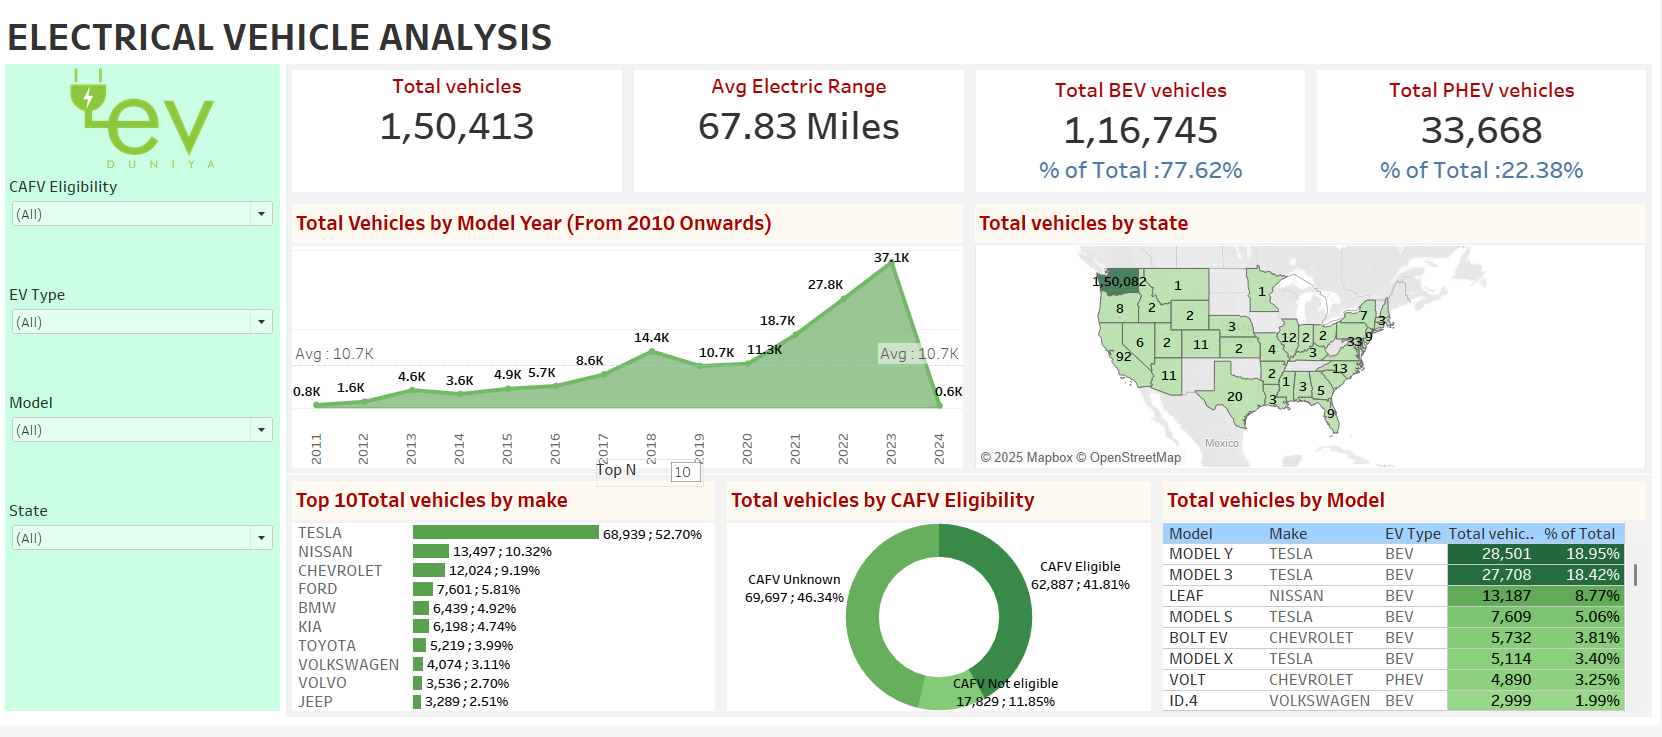

Layout of this report page (visuals, bound fields, positions):
{"tool":"tableau","page":{"name":"Dashboard 1","canvas":[1600,900],"ordinal":0},"visuals":[{"type":"title","box":[8,8,1584,60]},{"type":"image","param":"Image/EVDuinya-Logo.png","box":[14,68,263,137]},{"type":"worksheet","title":"Total vehicle","mark":"Automatic","box":[283,68,328,122]},{"type":"worksheet","title":"Avg Electic Range","mark":"Automatic","box":[611,68,327,122]},{"type":"worksheet","title":"Total BEV vehicles","mark":"Automatic","box":[938,68,327,122]},{"type":"worksheet","title":"Total PHEV vehicles ","mark":"Automatic","box":[1265,68,327,122]},{"type":"worksheet","title":"Total Vehicles by Model Year (From 2010 Onwards)","mark":"Area","rows":["Calculation_828099407671062528","Calculation_828099407671062528"],"cols":["Model Year"],"box":[283,190,655,374]},{"type":"worksheet","title":"Total vehicles by state","mark":"Multipolygon","box":[938,190,654,374]},{"type":"filter","title":"Total Vehicles by Model Year (From 2010 Onwards)","param":"[federated.0d7jsu21aq7nec16vjwwi1fjiuvt].[none:Clean Alternative Fuel Vehicle (C","box":[14,205,263,137]},{"type":"filter","title":"Total Vehicles by Model Year (From 2010 Onwards)","param":"[federated.0d7jsu21aq7nec16vjwwi1fjiuvt].[none:Electric Vehicle Type:nk]","box":[14,342,263,136]},{"type":"filter","title":"Total Vehicles by Model Year (From 2010 Onwards)","param":"[federated.0d7jsu21aq7nec16vjwwi1fjiuvt].[none:Model:nk]","box":[14,478,263,136]},{"type":"worksheet","title":"Top 10 Total vehicles by make","mark":"Automatic","rows":["Make"],"cols":["Calculation_828099407671062528"],"box":[283,564,417,328]},{"type":"worksheet","title":"Total vehicles by CAFV Eligibility","mark":"Pie","rows":["Calculation_1264948573180010497","Calculation_1264948573180010497"],"box":[699.9,564,397.1,328]},{"type":"worksheet","title":"Total vehicles by Model","mark":"Square","rows":["Model","Make","Electric Vehicle Type"],"box":[1097,564,495,328]},{"type":"parameter","param":"[Parameters].[Parameter 1]","box":[580,571,104,35]},{"type":"filter","title":"Total Vehicles by Model Year (From 2010 Onwards)","param":"[federated.0d7jsu21aq7nec16vjwwi1fjiuvt].[none:State:nk]","box":[14,614,263,136]},{"type":"blank","box":[14,750,263,136]}]}

Visuals, with their boxes on the page's 1600x900 design canvas (x1, y1, x2, y2). These are canvas units, not pixel positions in the 1662x737 screenshot, which may show the page scaled, cropped or inside an application window:
title: region(8, 8, 1592, 68)
image: region(14, 68, 277, 205)
"Total vehicle" worksheet: region(283, 68, 611, 190)
"Avg Electic Range" worksheet: region(611, 68, 938, 190)
"Total BEV vehicles" worksheet: region(938, 68, 1265, 190)
"Total PHEV vehicles " worksheet: region(1265, 68, 1592, 190)
"Total Vehicles by Model Year (From 2010 Onwards)" worksheet (Area marks): region(283, 190, 938, 564)
"Total vehicles by state" worksheet (Multipolygon marks): region(938, 190, 1592, 564)
"Total Vehicles by Model Year (From 2010 Onwards)" filter: region(14, 205, 277, 342)
"Total Vehicles by Model Year (From 2010 Onwards)" filter: region(14, 342, 277, 478)
"Total Vehicles by Model Year (From 2010 Onwards)" filter: region(14, 478, 277, 614)
"Top 10 Total vehicles by make" worksheet: region(283, 564, 700, 892)
"Total vehicles by CAFV Eligibility" worksheet (Pie marks): region(700, 564, 1097, 892)
"Total vehicles by Model" worksheet (Square marks): region(1097, 564, 1592, 892)
parameter: region(580, 571, 684, 606)
"Total Vehicles by Model Year (From 2010 Onwards)" filter: region(14, 614, 277, 750)
blank: region(14, 750, 277, 886)
